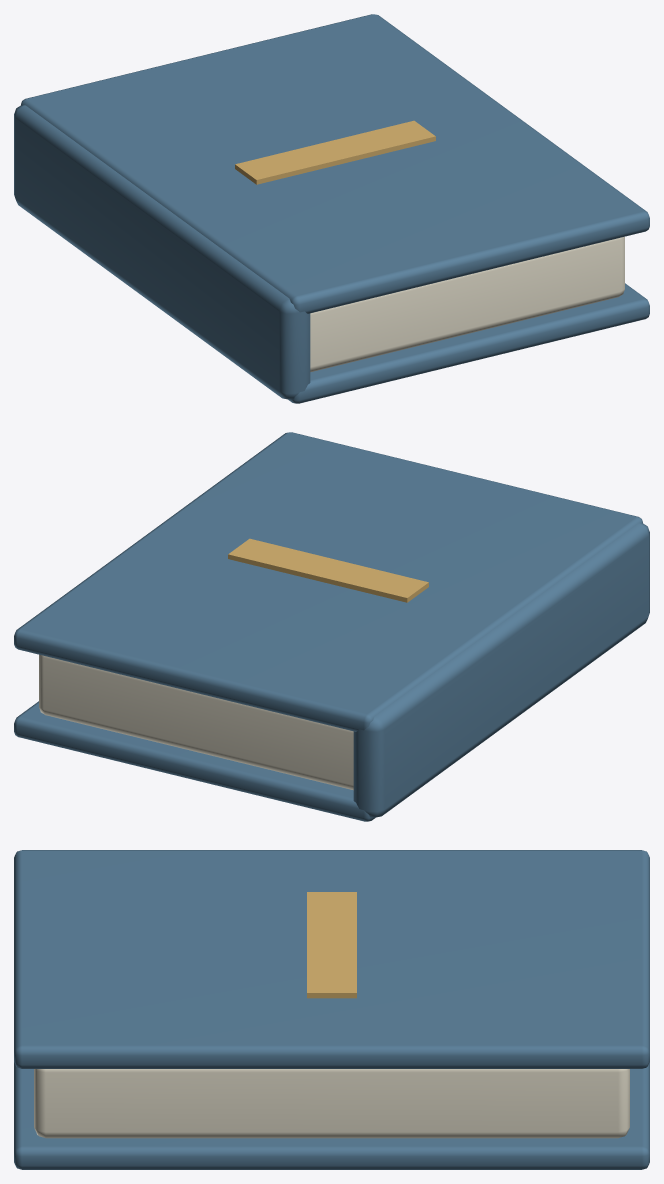
The model's file is book.glb.
3 views of the same model, one above another, from view 1: azimuth 30°, elevation 25°; view 2: azimuth 150°, elevation 25°; view 3: azimuth 270°, elevation 25° (orthographic). The views are drawn at different scales.
Visible parts, largest first — view 1: V2_book_batched; view 2: V2_book_batched; view 3: V2_book_batched.
Boxes of the visible parts, x1,y1,x2,y2 form: V2_book_batched: [14, 14, 649, 403]; V2_book_batched: [14, 432, 649, 821]; V2_book_batched: [14, 850, 649, 1169].
Size of the model in its own units: 0.246 by 0.072 by 0.32.
